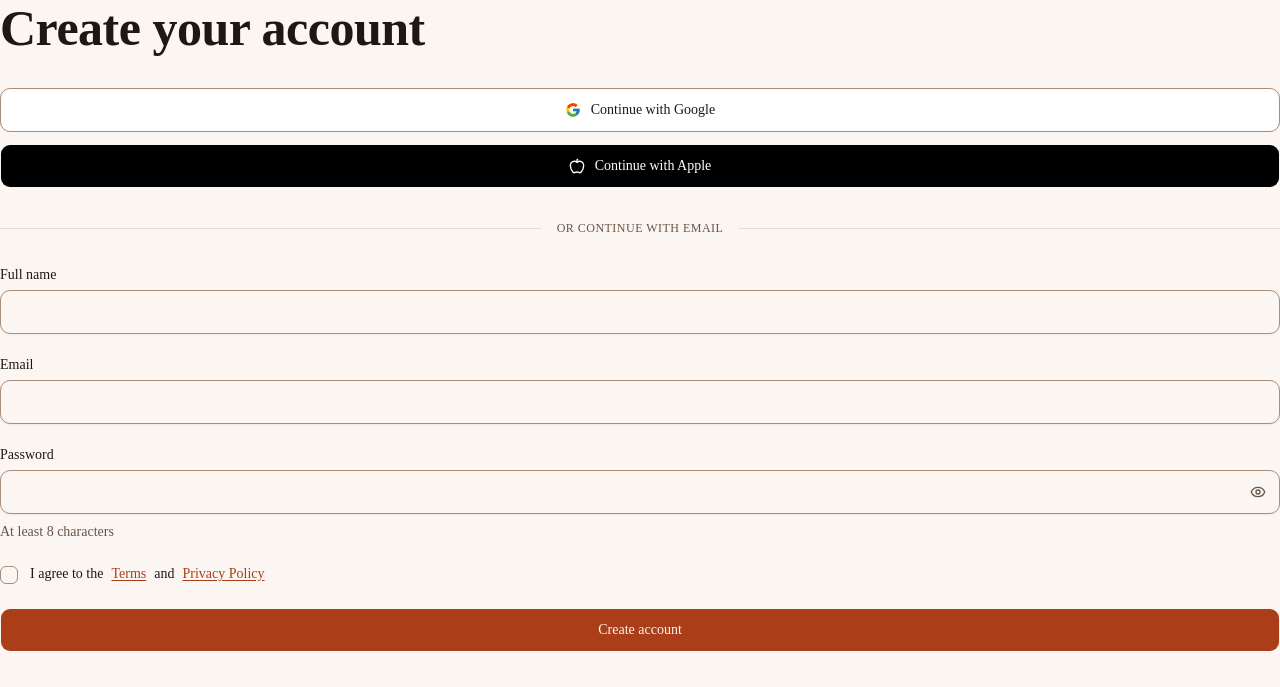
Test: SignUpForm › shows the imperative empty-field message for name on submit with no input
Click the button "Create account" at x=640, y=630, box [0,608,1279,652]
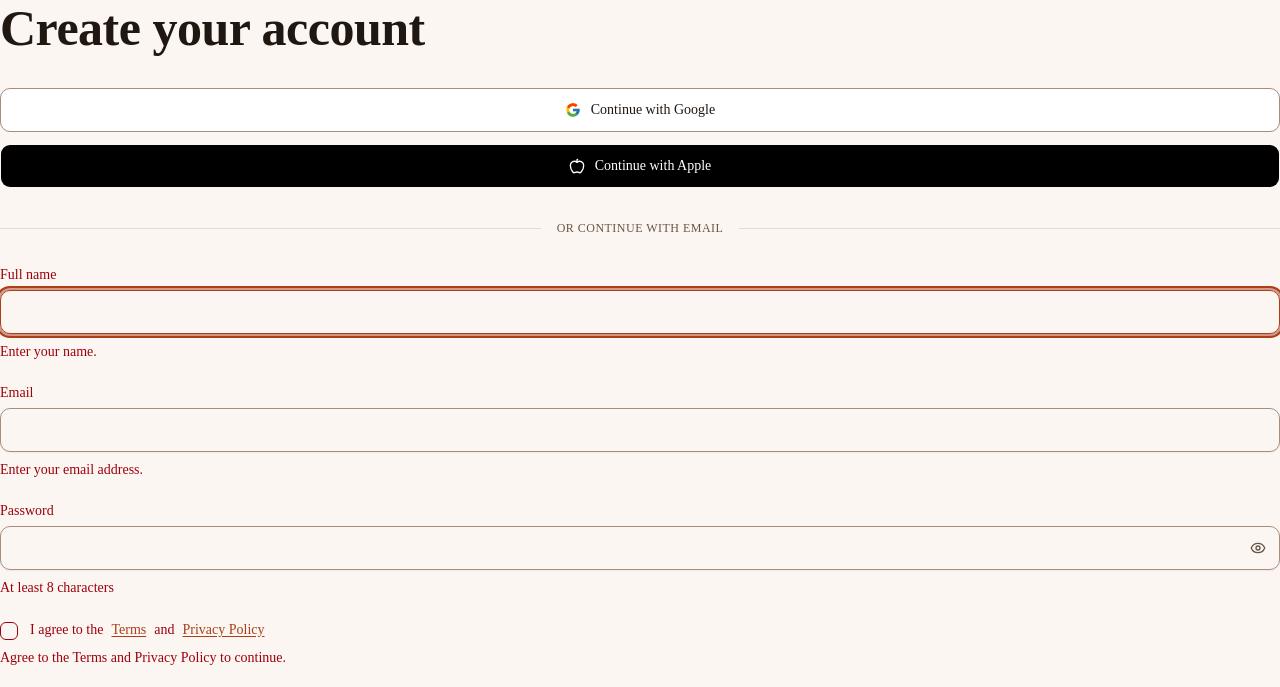
Now the text "Enter your name." is shown, box [0,344,97,359]
